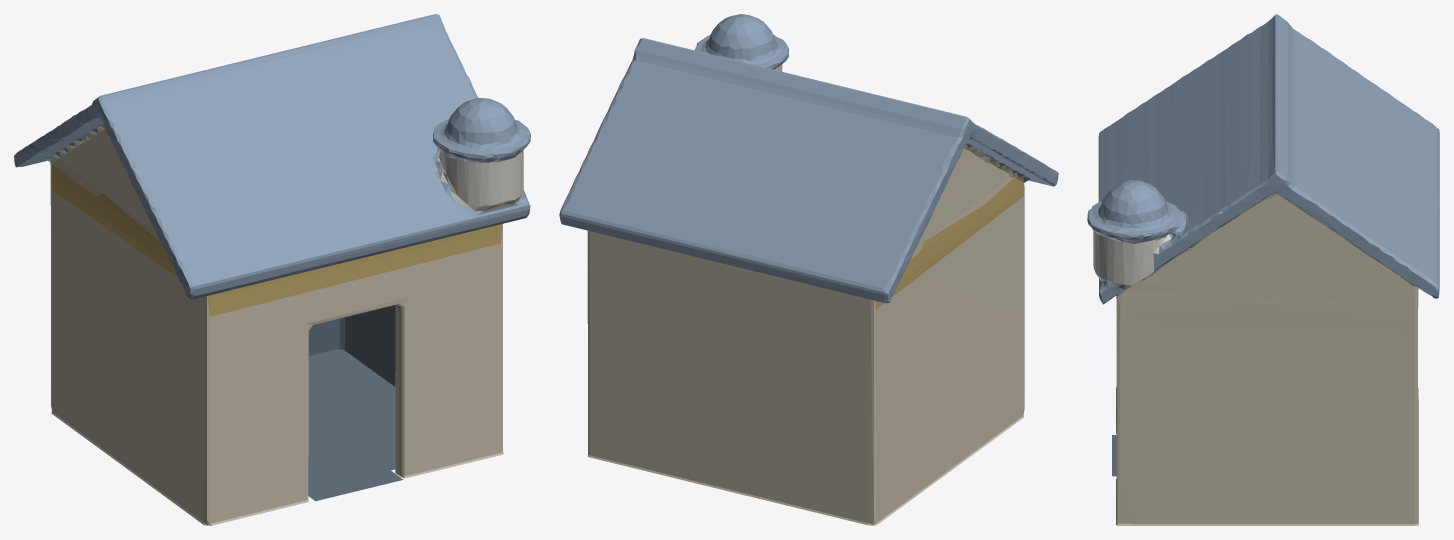
3 views of the same model, side by side, from view 1: azimuth 30°, elevation 25°; view 2: azimuth 150°, elevation 25°; view 3: azimuth 270°, elevation 25° (orthographic). The views are drawn at different scales.
Visible parts, largest first — view 1: geometry_0; view 2: geometry_0; view 3: geometry_0.
Boxes of the visible parts, left/top/right/bottom form: geometry_0: left=14, top=14, right=530, bottom=525; geometry_0: left=559, top=14, right=1058, bottom=525; geometry_0: left=1087, top=14, right=1439, bottom=525.
Size of the model in its own units: 0.8724 by 0.8866 by 0.7842.
